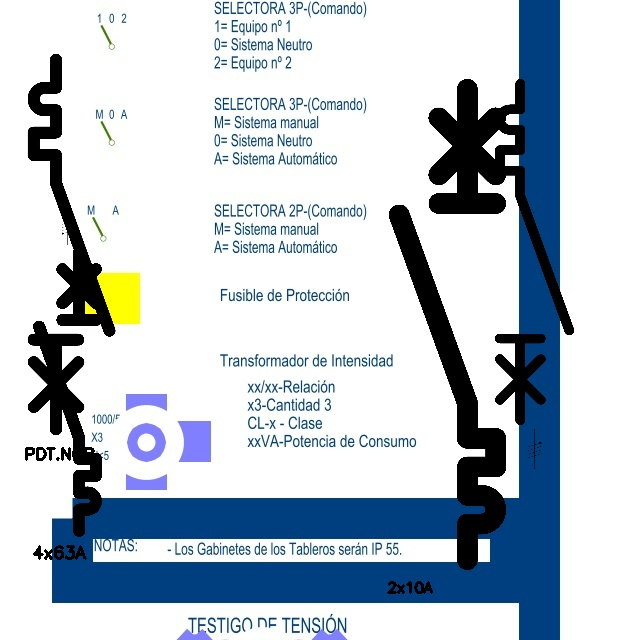interruptor_termomagnetico: (387, 77, 508, 572), (24, 50, 119, 439), (491, 75, 577, 429), (32, 245, 103, 538)
